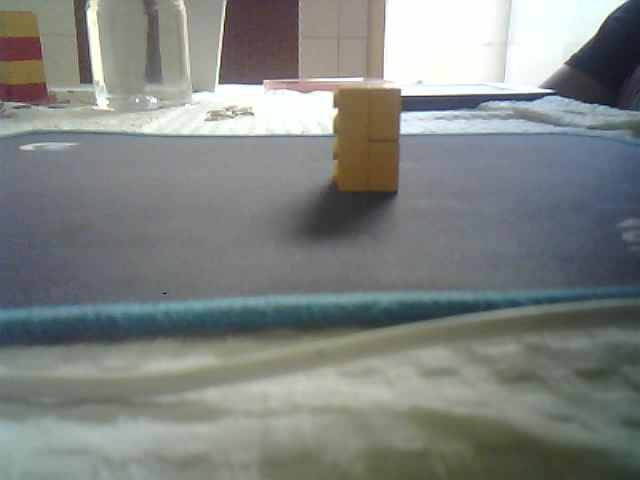lego: (330, 80, 402, 194), (1, 9, 48, 103)
